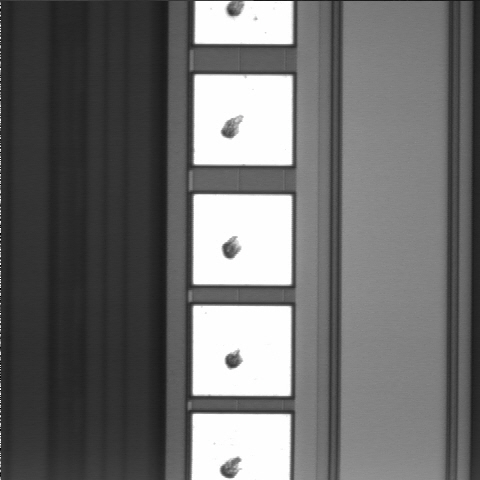pad: (193, 194, 292, 285), (194, 75, 292, 165), (193, 306, 291, 396)
